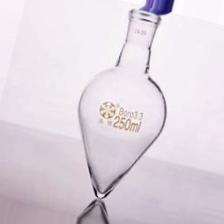Pear shaped flask: (69, 1, 167, 203)
